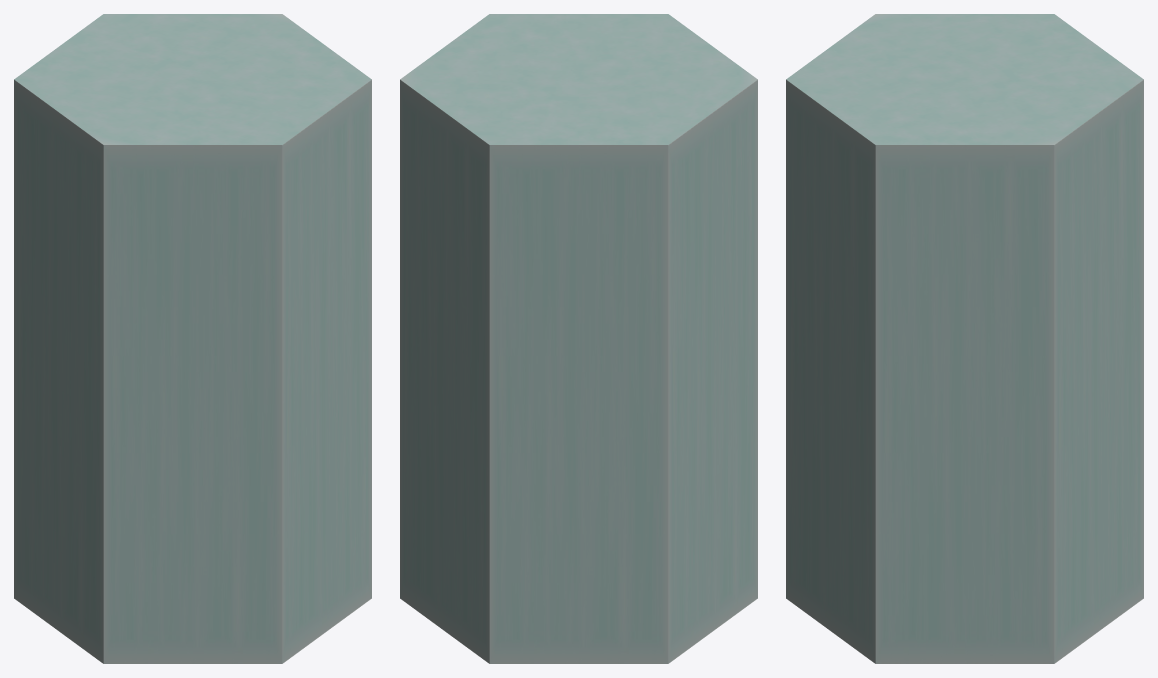
File: HexagonalPrism.fbx
The picture shows the model from 3 angles, left to right: view 1: azimuth 30°, elevation 25°; view 2: azimuth 150°, elevation 25°; view 3: azimuth 270°, elevation 25°; orthographic projection.
Visible parts, largest first — view 1: Beryl HexCrystal; view 2: Beryl HexCrystal; view 3: Beryl HexCrystal.
Part boxes in pixels (x1,y1,x2,y2): Beryl HexCrystal: [14, 14, 371, 663]; Beryl HexCrystal: [400, 14, 757, 663]; Beryl HexCrystal: [786, 14, 1143, 663].
Bounding box in the file's own units: 173 × 320 × 200.
1 material, 1 textured.
